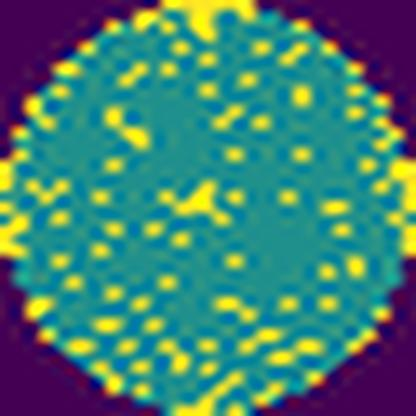Edge-Loc: (153, 0, 258, 43)
